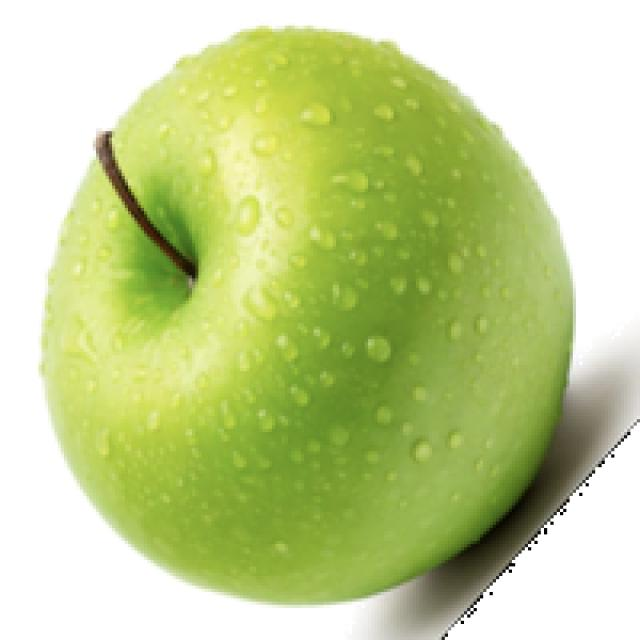apple: (35, 19, 637, 637)
